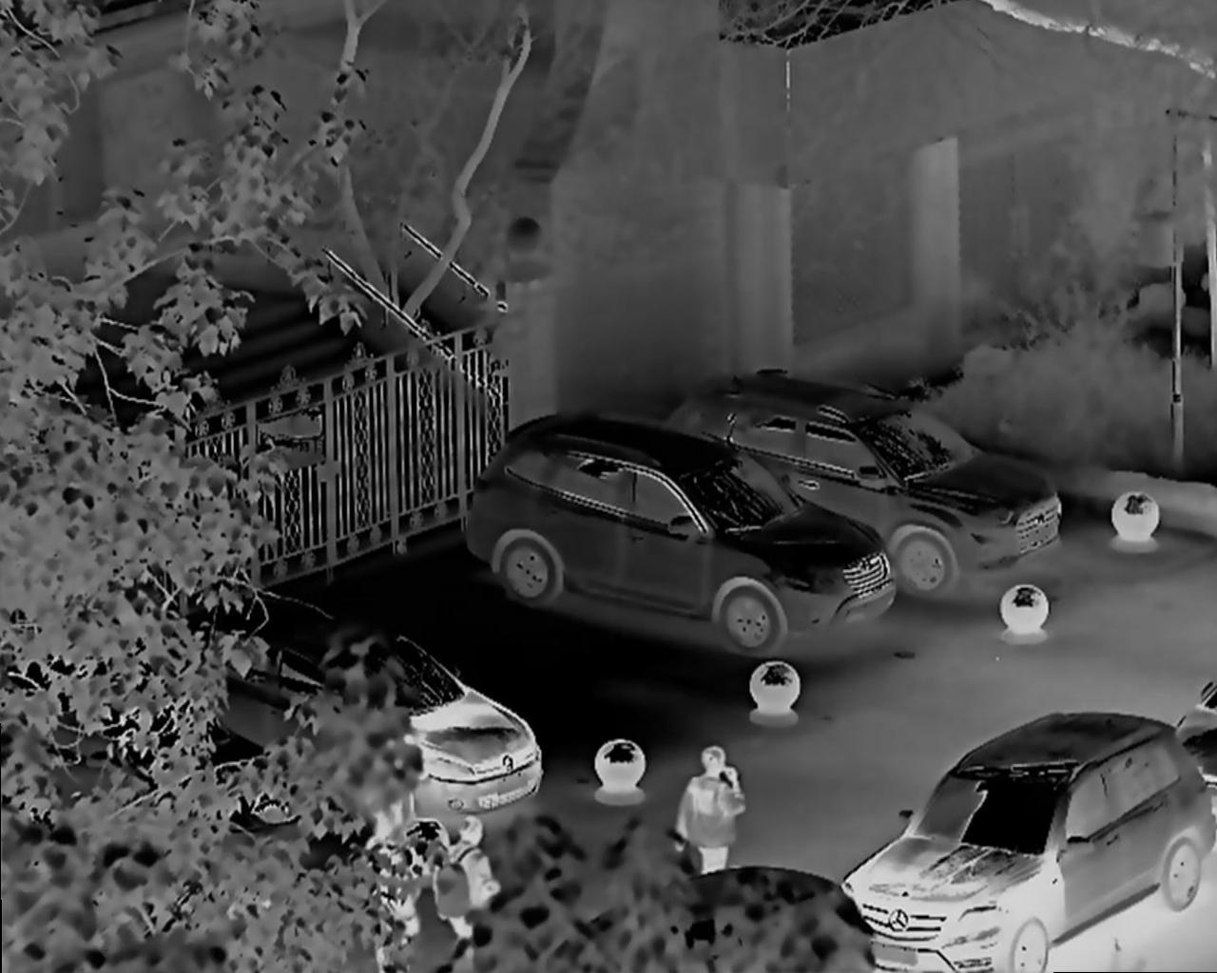person: (428, 808, 503, 947), (680, 749, 743, 887)
